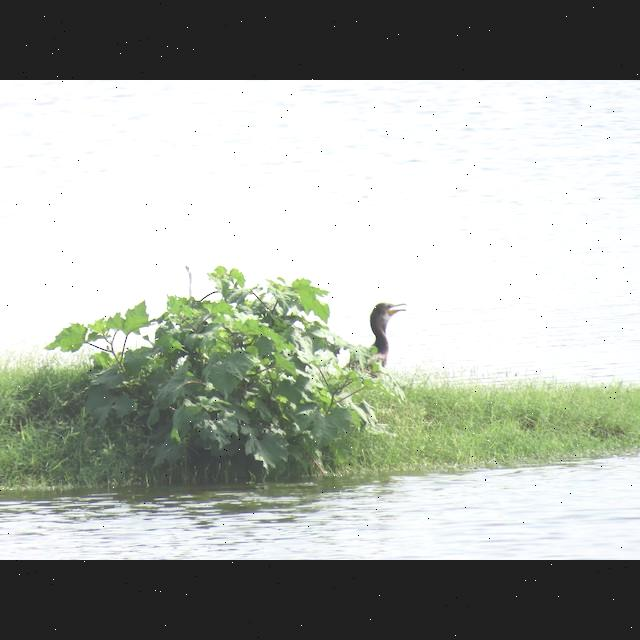cormorant: (352, 298, 412, 374)
